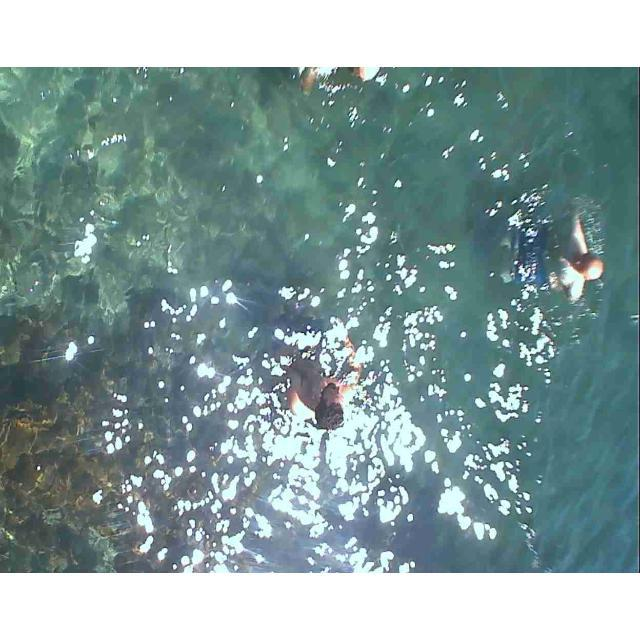human: (276, 310, 371, 438), (509, 180, 599, 311), (294, 67, 411, 120)
